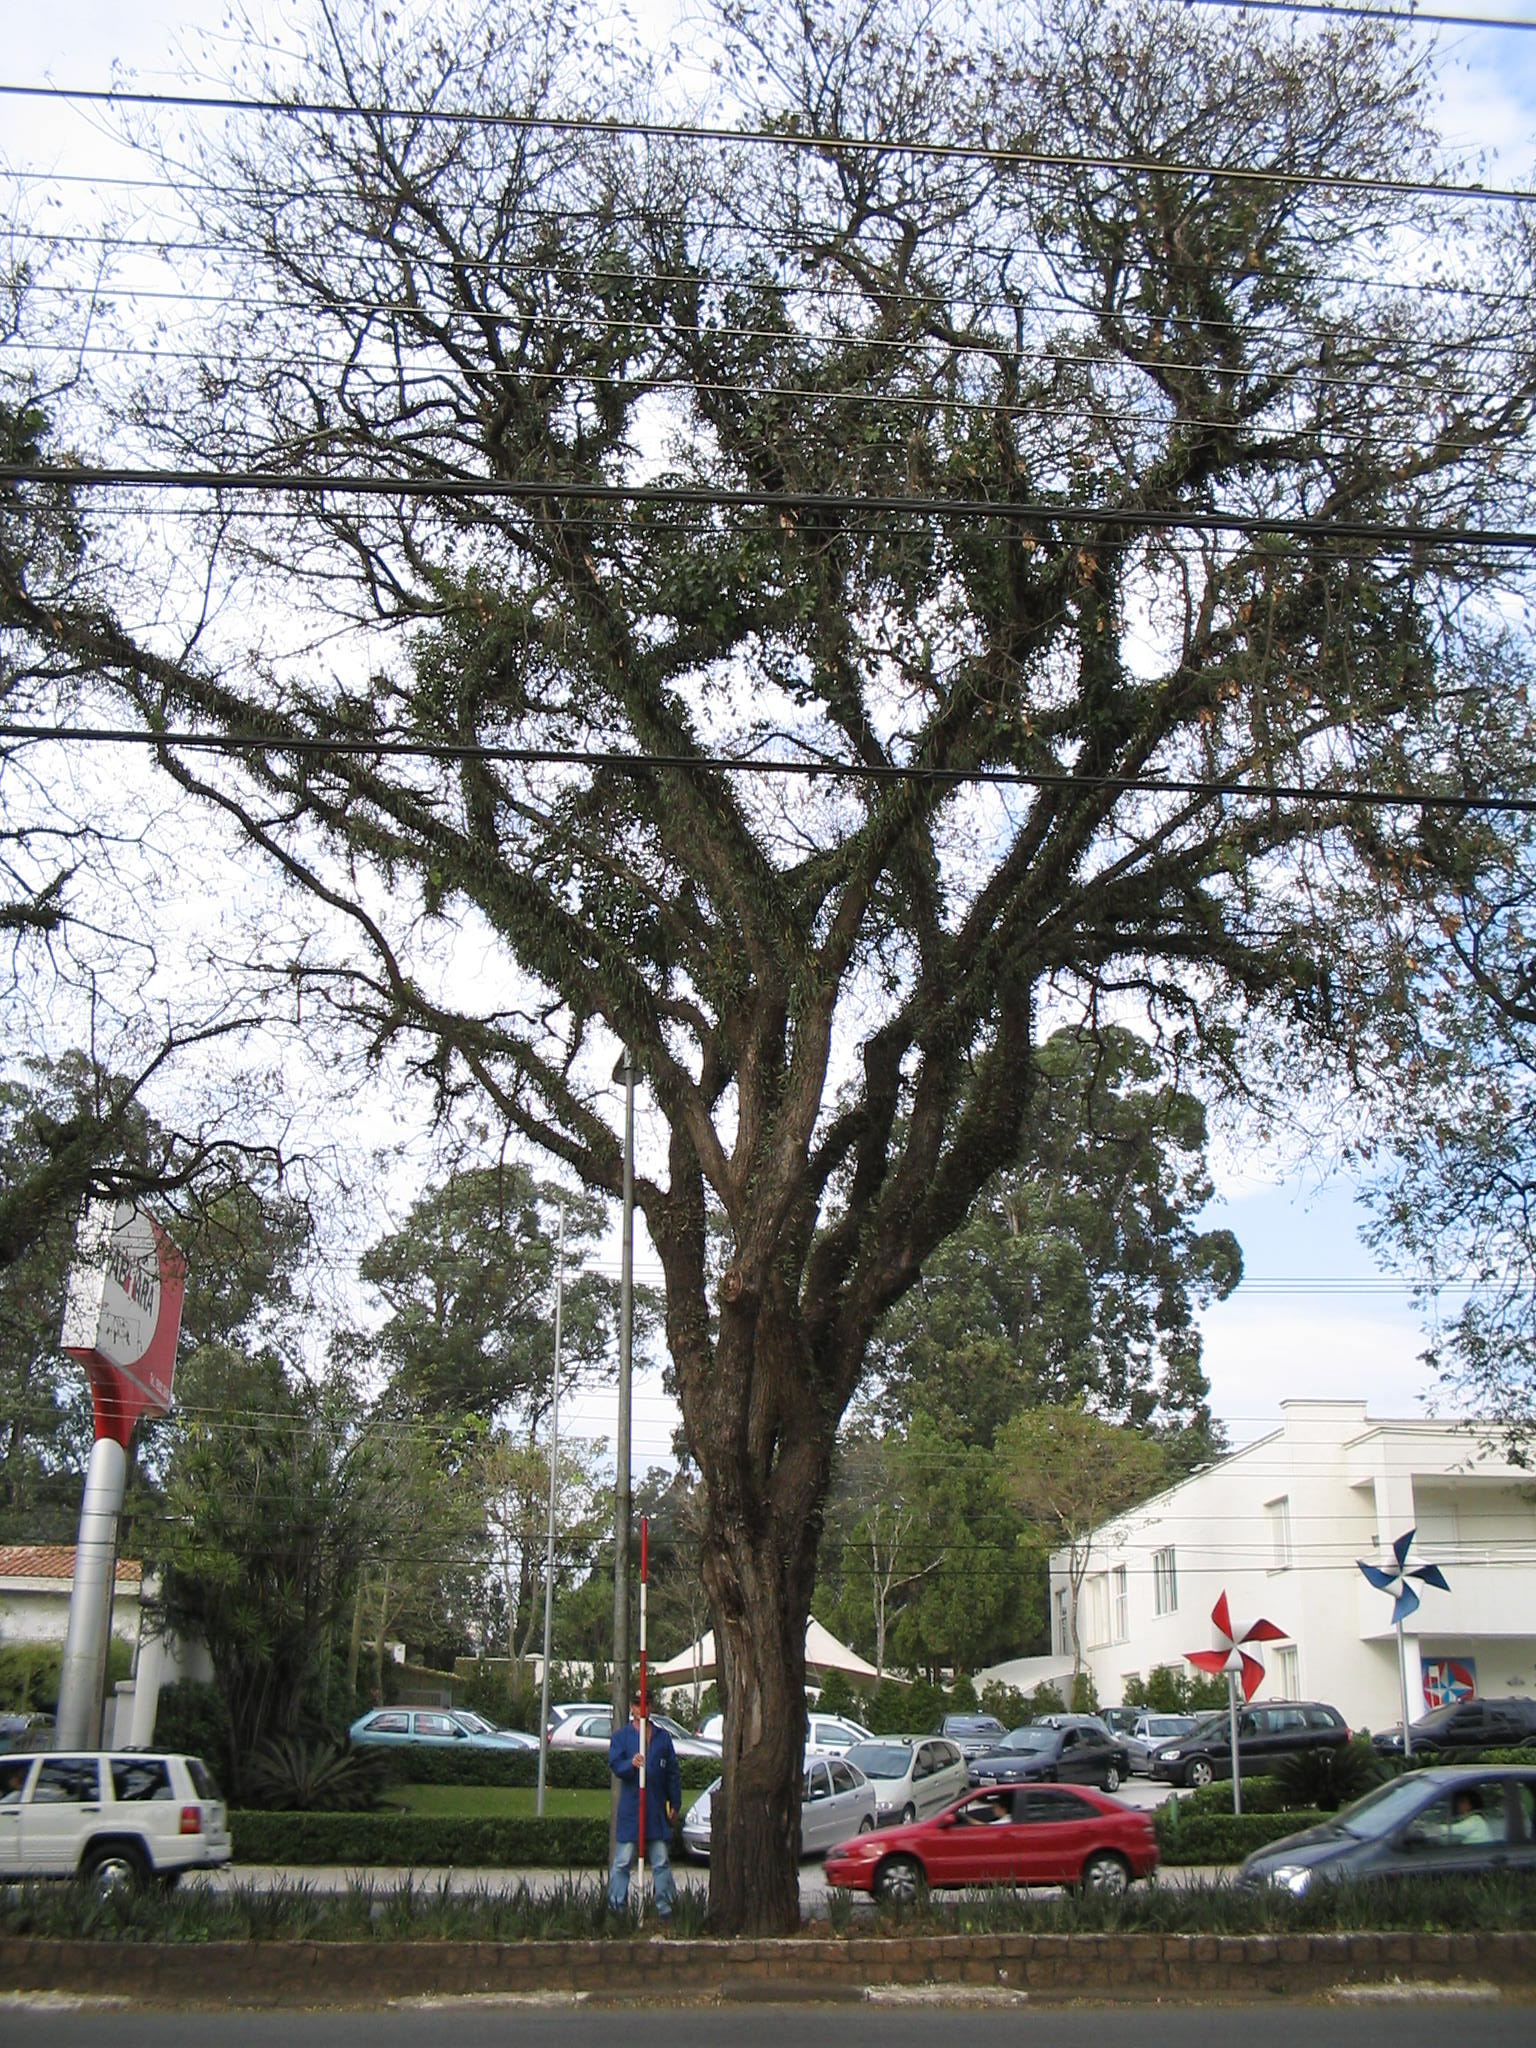stem: (662, 1503, 845, 1940)
stick: (603, 1511, 678, 1932)
tree: (53, 3, 1536, 1945)
